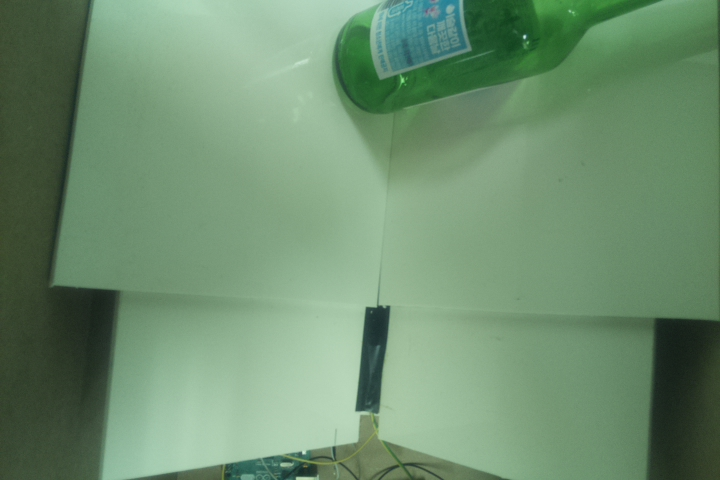soju: (331, 1, 684, 119)
